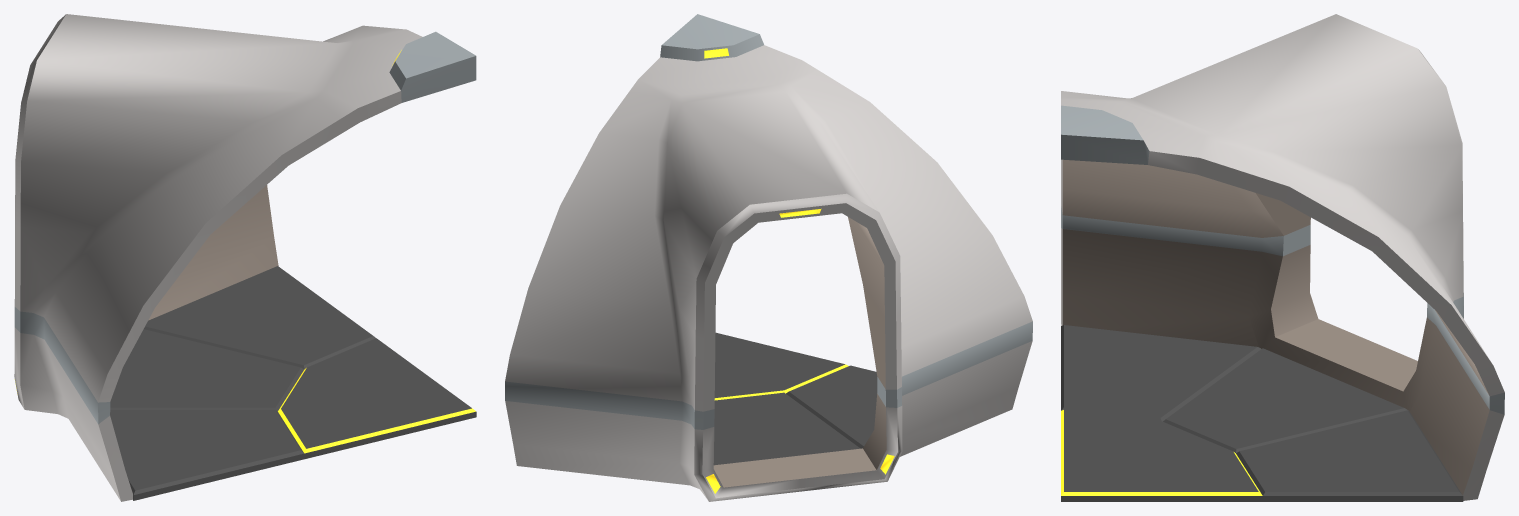
The model's file is quarter_dome_door.glb.
3 views of the same model, side by side, from view 1: azimuth 30°, elevation 25°; view 2: azimuth 150°, elevation 25°; view 3: azimuth 270°, elevation 25° (orthographic). The views are drawn at different scales.
Parts seen in each view (by area): view 1: quarter_door, floor_quarter; view 2: quarter_door, floor_quarter; view 3: quarter_door, floor_quarter.
Part boxes in pixels (left/top/right/bottom): quarter_door: left=14, top=14, right=476, bottom=501; floor_quarter: left=110, top=266, right=476, bottom=500; quarter_door: left=505, top=14, right=1032, bottom=501; floor_quarter: left=713, top=332, right=877, bottom=465; quarter_door: left=1061, top=14, right=1504, bottom=500; floor_quarter: left=1061, top=325, right=1463, bottom=501.
Size of what is drawn, in the model's own units: 2.93 by 2.67 by 2.93.
